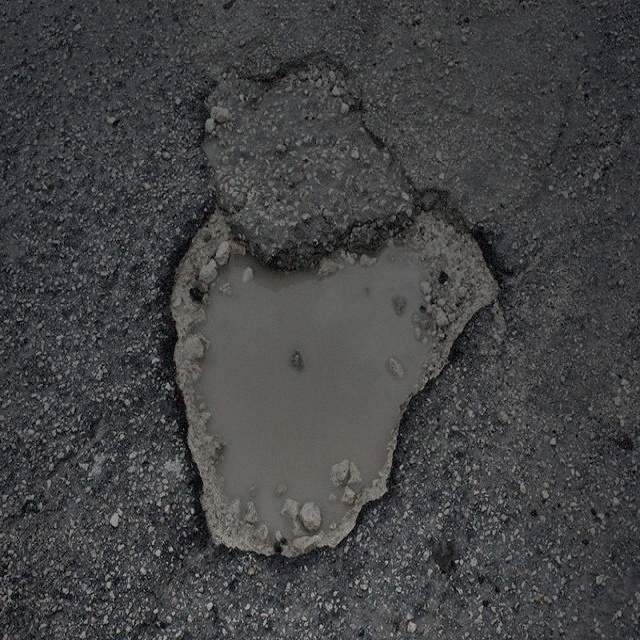pothole: (163, 167, 504, 552)
